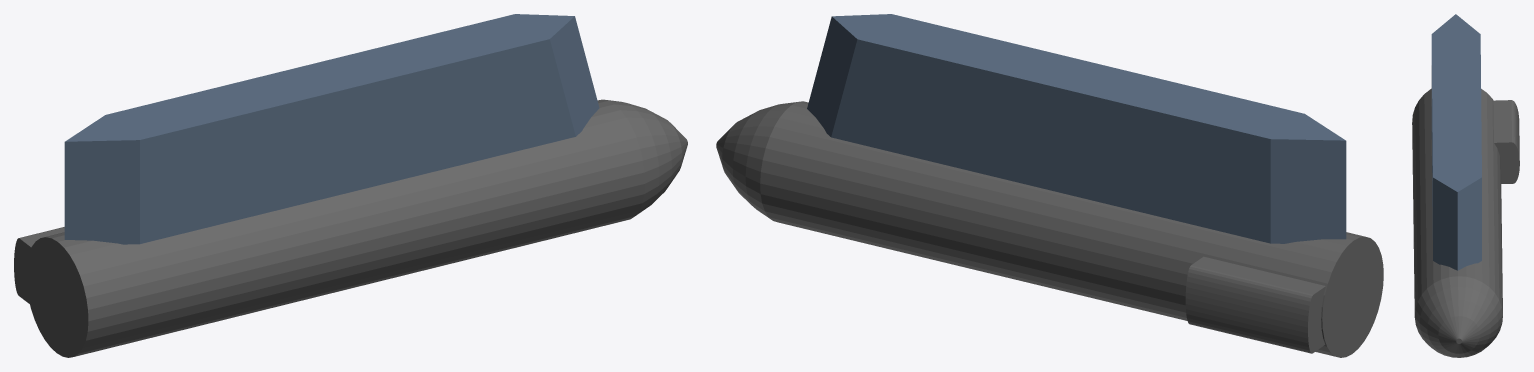
Rendered from f15eaaq13.glb.
The picture shows the model from 3 angles, left to right: view 1: azimuth 30°, elevation 25°; view 2: azimuth 150°, elevation 25°; view 3: azimuth 270°, elevation 25°; orthographic projection. The views are drawn at different scales.
Parts seen in each view (by area): view 1: 立方体.038, 円柱.035; view 2: 立方体.038, 円柱.035; view 3: 円柱.035, 立方体.038.
Boxes of the visible parts, x1,y1,x2,y2 form: 立方体.038: [64, 14, 599, 244]; 円柱.035: [14, 99, 687, 357]; 立方体.038: [807, 14, 1346, 243]; 円柱.035: [716, 101, 1383, 357]; 円柱.035: [1412, 88, 1519, 357]; 立方体.038: [1431, 14, 1481, 270].
Bounding box in the file's own units: 2.36 × 0.7501 × 0.4878.
